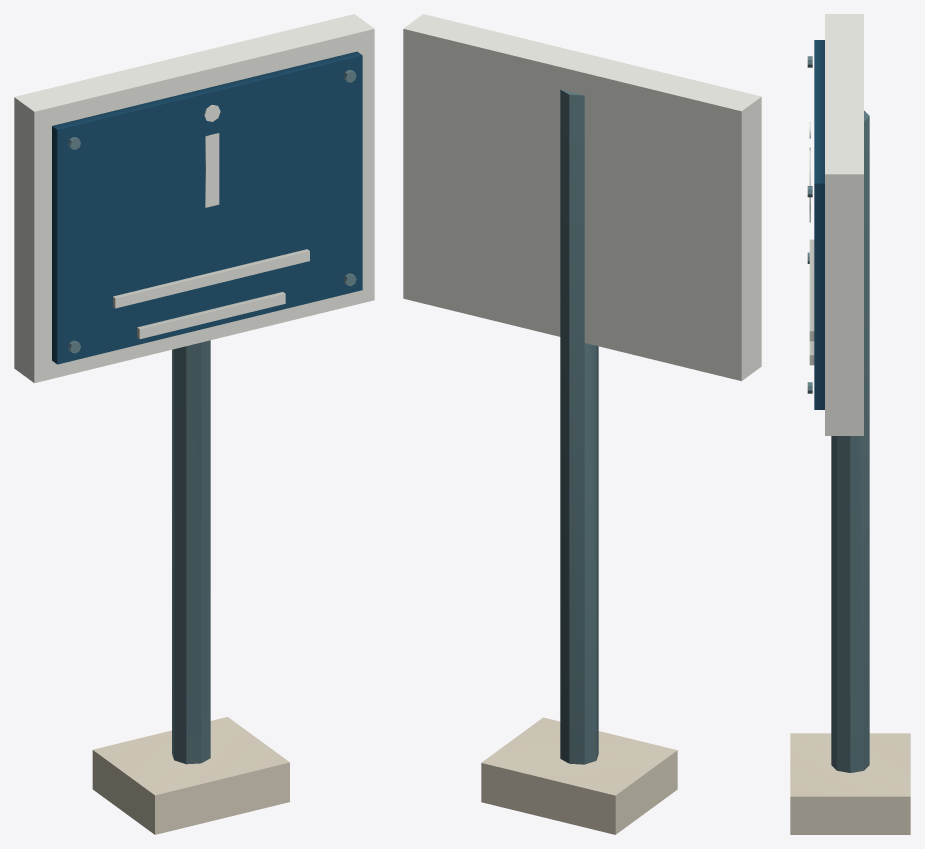
The model's file is information-sign.glb.
The picture shows the model from 3 angles, left to right: view 1: azimuth 30°, elevation 25°; view 2: azimuth 150°, elevation 25°; view 3: azimuth 270°, elevation 25°; orthographic projection. The views are drawn at different scales.
Visible parts, largest first — view 1: blue sign face, framed information board, sign post, sign foundation; view 2: framed information board, sign post, sign foundation; view 3: framed information board, sign post, sign foundation, blue sign face.
Boxes of the visible parts, bbox=[...] form: blue sign face: bbox=[52, 51, 362, 364]; framed information board: bbox=[14, 14, 374, 383]; sign post: bbox=[68, 70, 356, 764]; sign foundation: bbox=[92, 717, 289, 834]; framed information board: bbox=[403, 14, 761, 380]; sign post: bbox=[560, 89, 598, 764]; sign foundation: bbox=[481, 717, 677, 834]; framed information board: bbox=[809, 14, 863, 435]; sign post: bbox=[807, 56, 869, 772]; sign foundation: bbox=[790, 733, 910, 834]; blue sign face: bbox=[814, 40, 824, 409].
Bounding box in the file's own units: 0.63 × 1.3 × 0.2.
